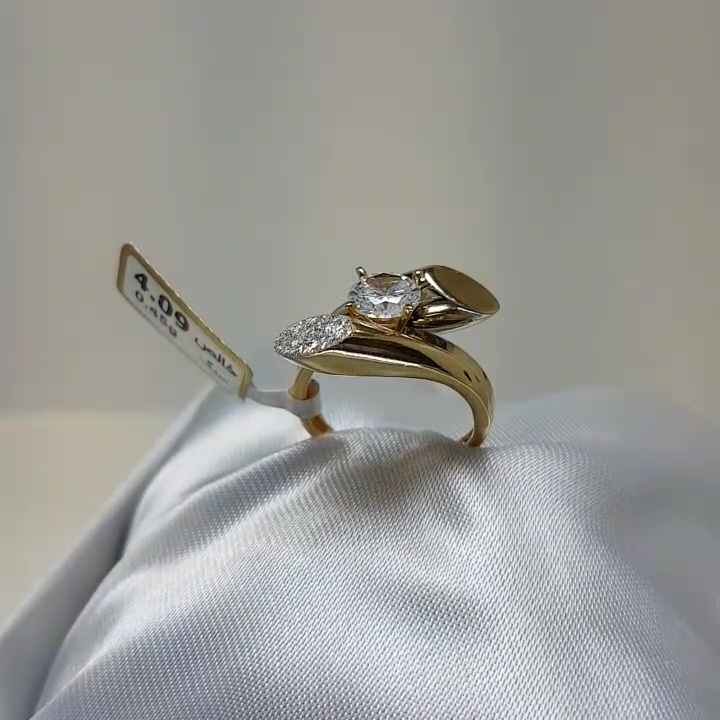Ring 7: (251, 242, 507, 464)
